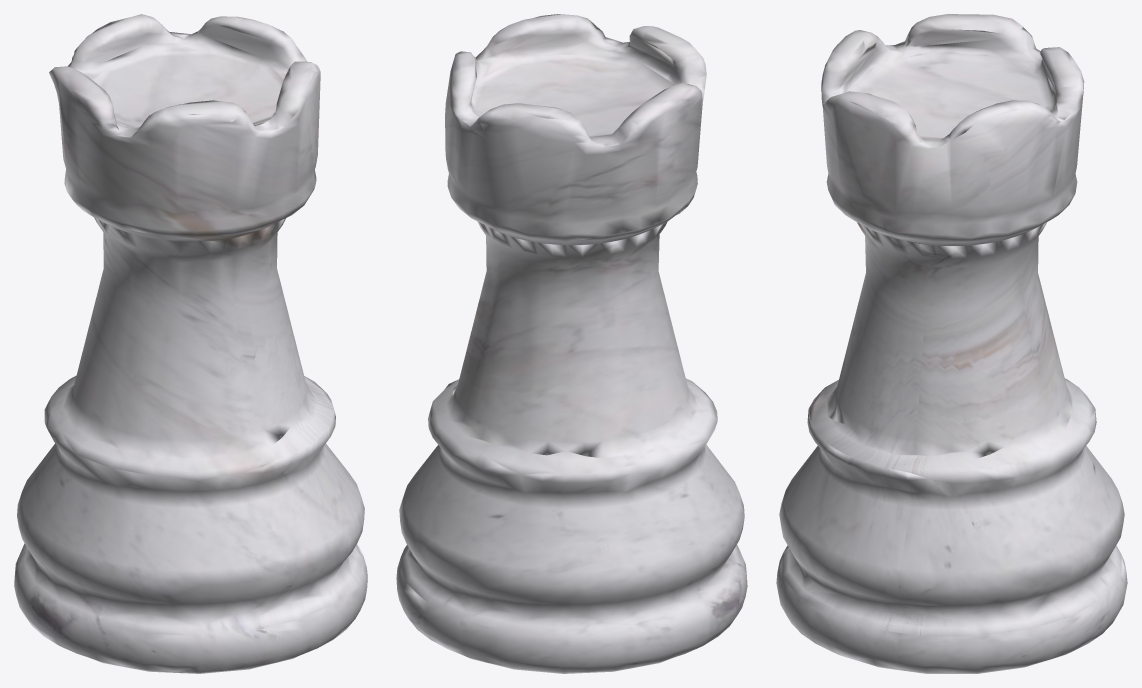
Rendered from white_rook.glb.
3 views of the same model, side by side, from view 1: azimuth 30°, elevation 25°; view 2: azimuth 150°, elevation 25°; view 3: azimuth 270°, elevation 25° (orthographic).
Parts seen in each view (by area): view 1: Circle.024; view 2: Circle.024; view 3: Circle.024.
Part boxes in pixels (x1=…): Circle.024: x1=14, y1=14, x2=367, y2=673; Circle.024: x1=396, y1=14, x2=747, y2=673; Circle.024: x1=776, y1=14, x2=1127, y2=673.
Size of the model in its own units: 1.25 by 2.14 by 1.25.
1 material, 1 textured.
